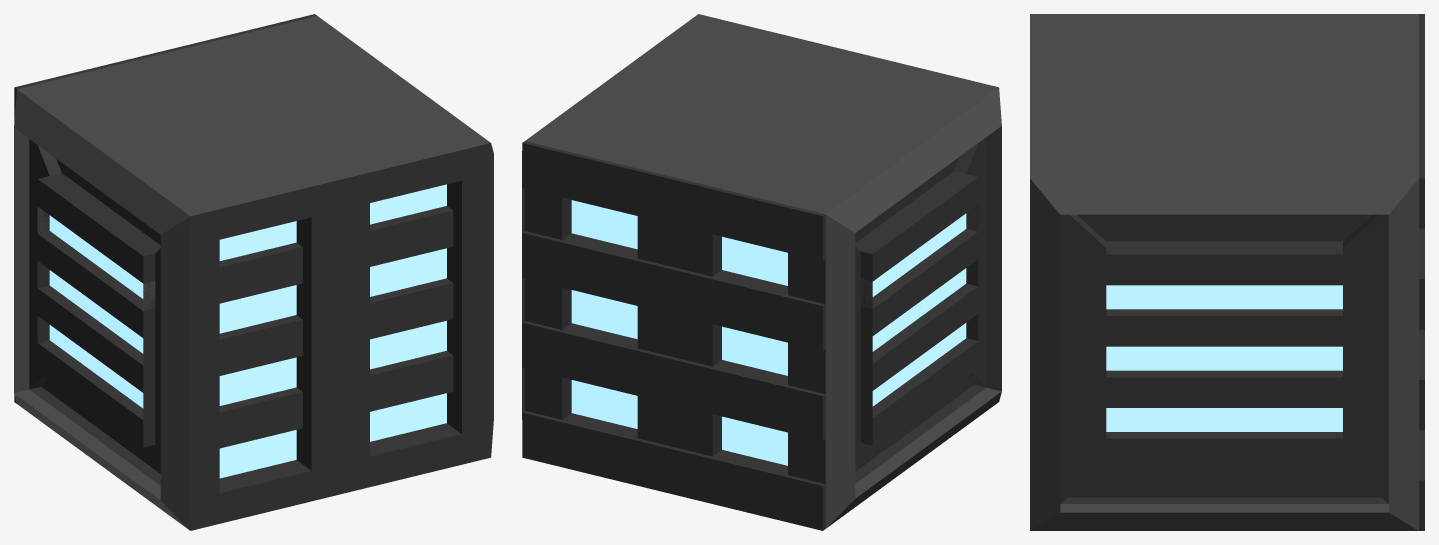
Rendered from ShinyCrate.fbx.
3 views of the same model, side by side, from view 1: azimuth 30°, elevation 25°; view 2: azimuth 150°, elevation 25°; view 3: azimuth 270°, elevation 25° (orthographic). The views are drawn at different scales.
Visible parts, largest first — view 1: Cube; view 2: Cube; view 3: Cube.
Boxes of the visible parts, x1=… form: Cube: x1=14, y1=14, x2=493, y2=530; Cube: x1=522, y1=14, x2=1001, y2=530; Cube: x1=1030, y1=14, x2=1424, y2=530.
Bounding box in the file's own units: 222 × 200 × 203.
